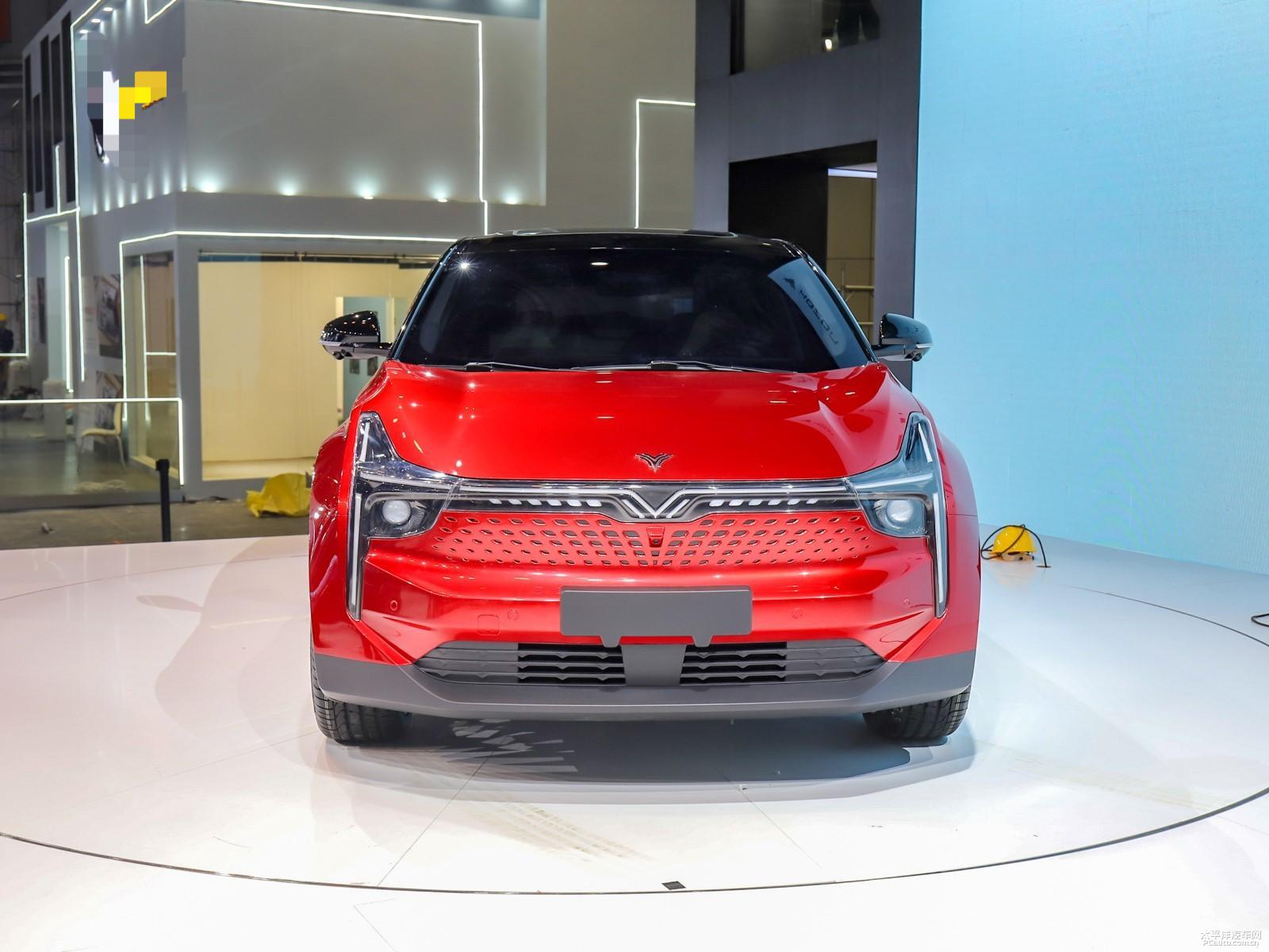NETA: (631, 448, 674, 474)
